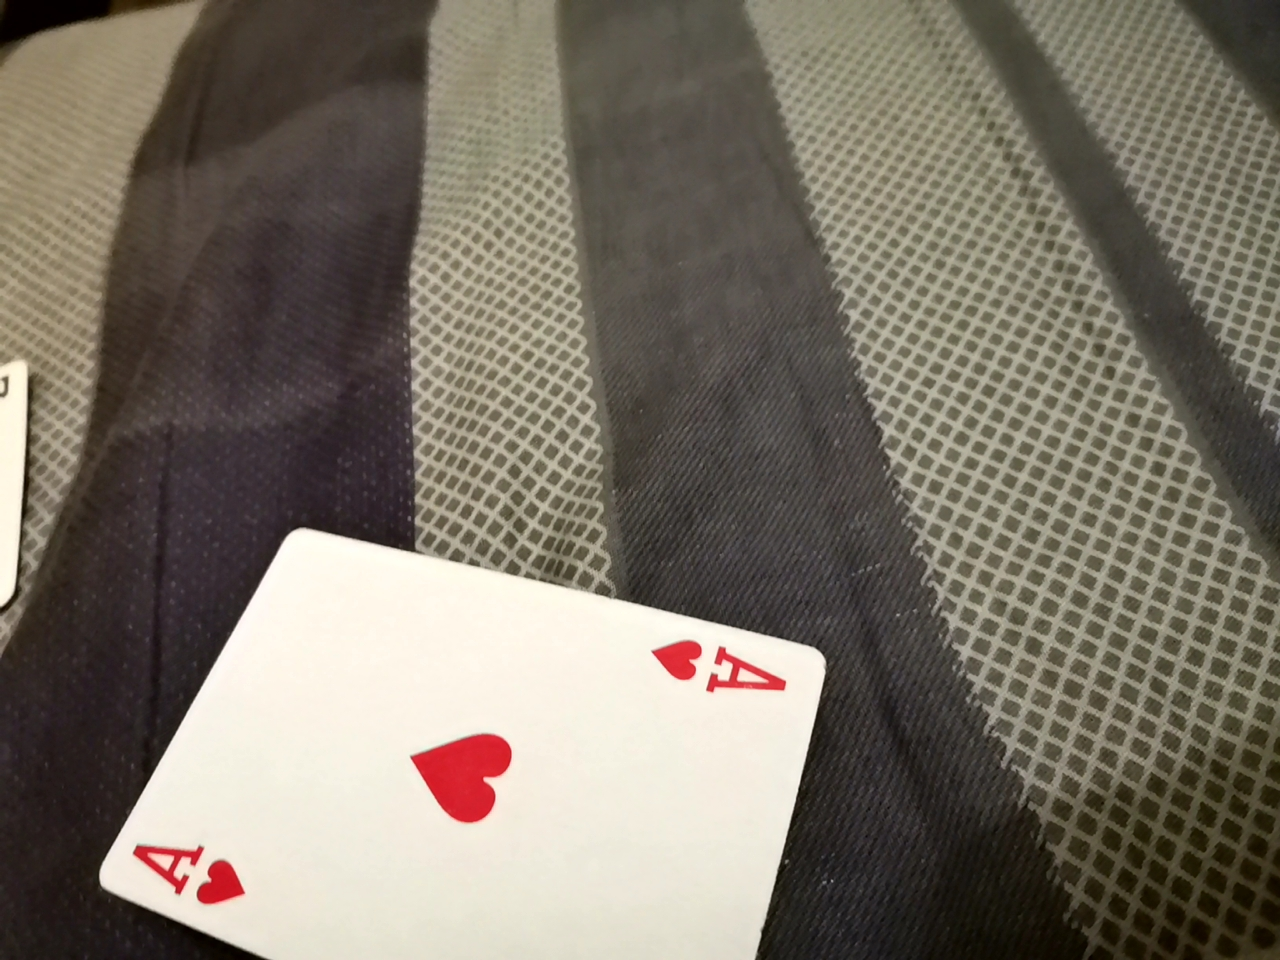hx a: (124, 533, 846, 960)
